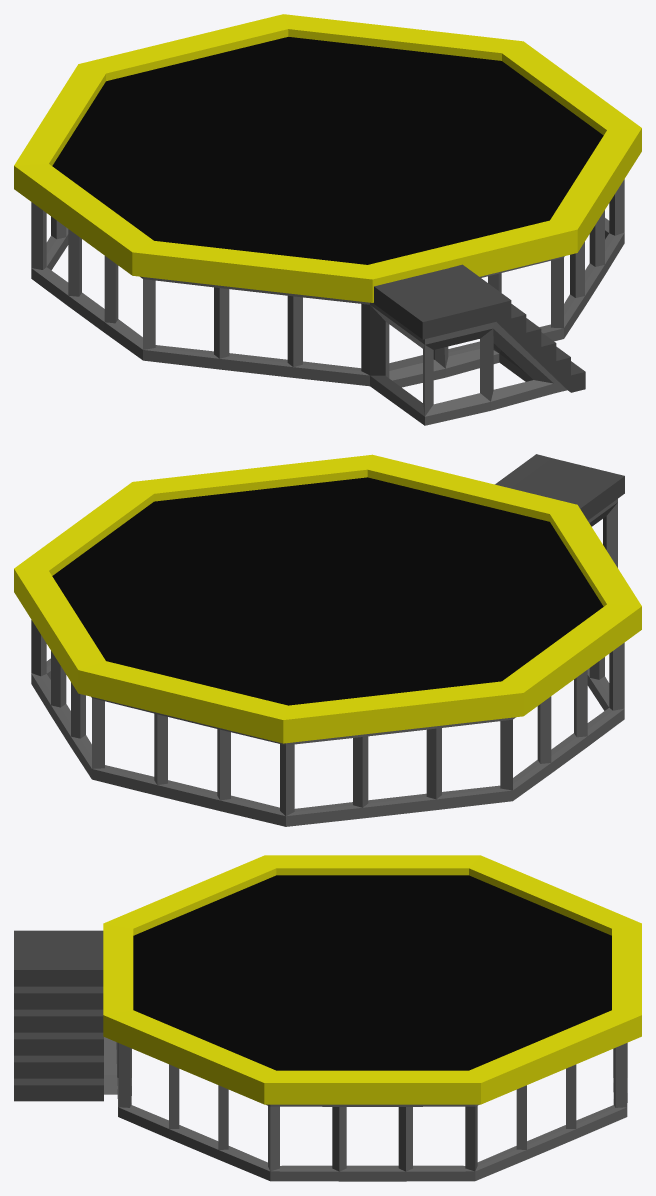
The model's file is HeliPad.fbx.
3 views of the same model, one above another, from view 1: azimuth 30°, elevation 25°; view 2: azimuth 150°, elevation 25°; view 3: azimuth 270°, elevation 25° (orthographic). The views are drawn at different scales.
Visible parts, largest first — view 1: Cube.002; view 2: Cube.002; view 3: Cube.002.
Part boxes in pixels (x1,y1,x2,y2): Cube.002: (14, 14, 641, 425); Cube.002: (14, 454, 641, 826); Cube.002: (14, 855, 641, 1181).
Size of the model in its own units: 819 by 175 by 955.
